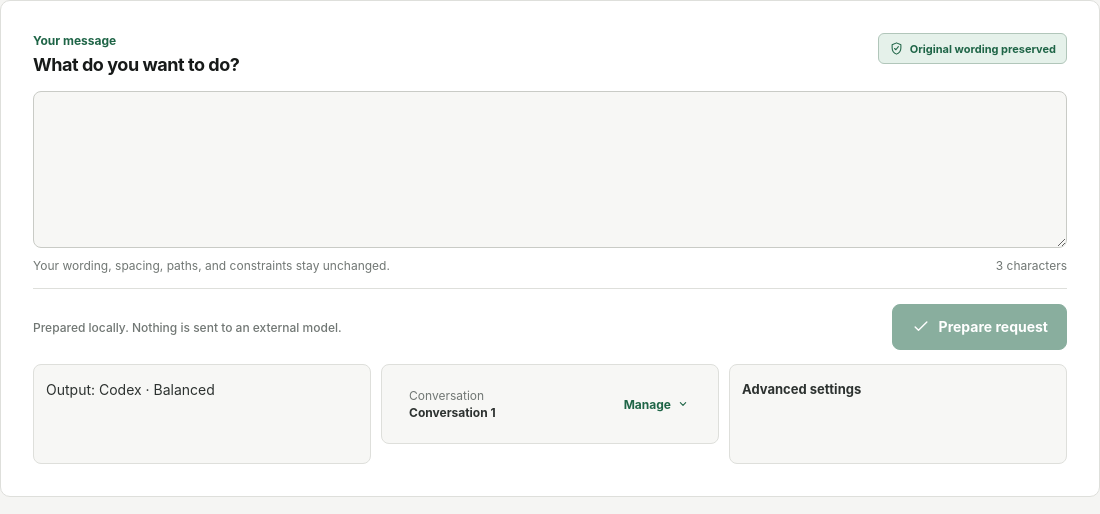
Scenario: HydrationComposer › rejects whitespace-only input
Focus the text box labelled "What do you want to do?" at x=550, y=170, box [33,91,1067,249]
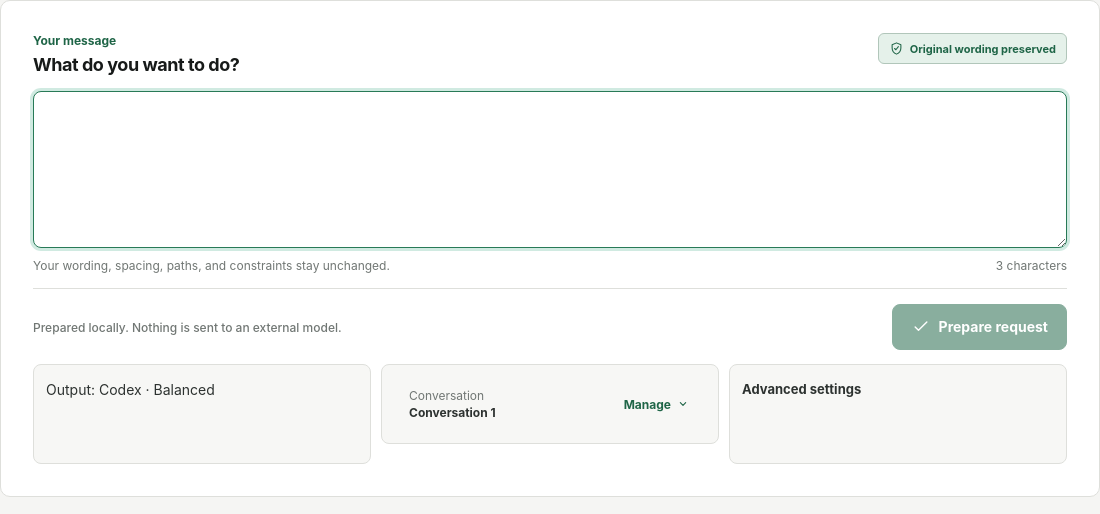
Leave the text box labelled "What do you want to do?", box [33,91,1067,249]
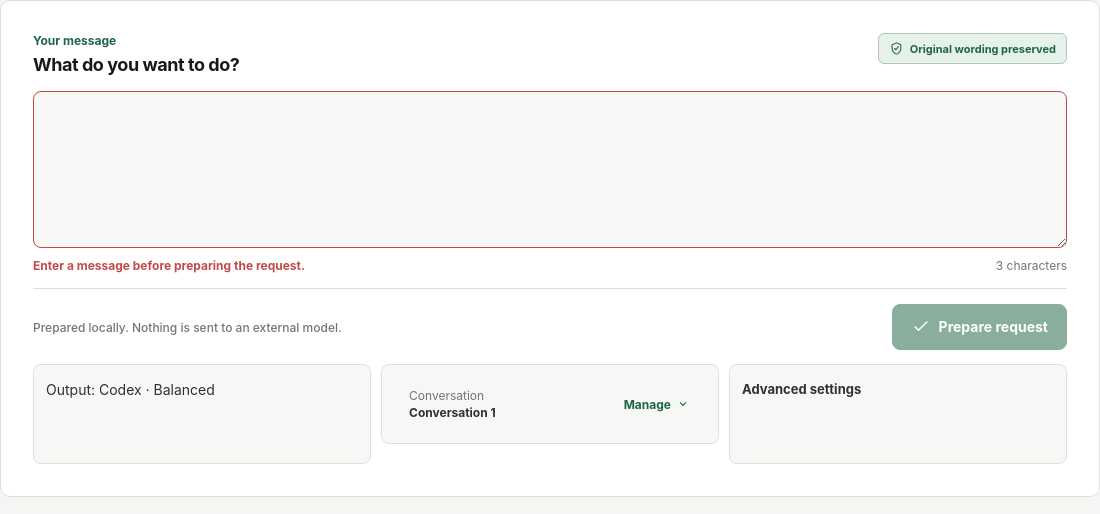
Expected: the button "Prepare request" is disabled, [892,304,1067,350]
Result: the text "Enter a message before preparing the request." is shown at [33,258,305,273]
